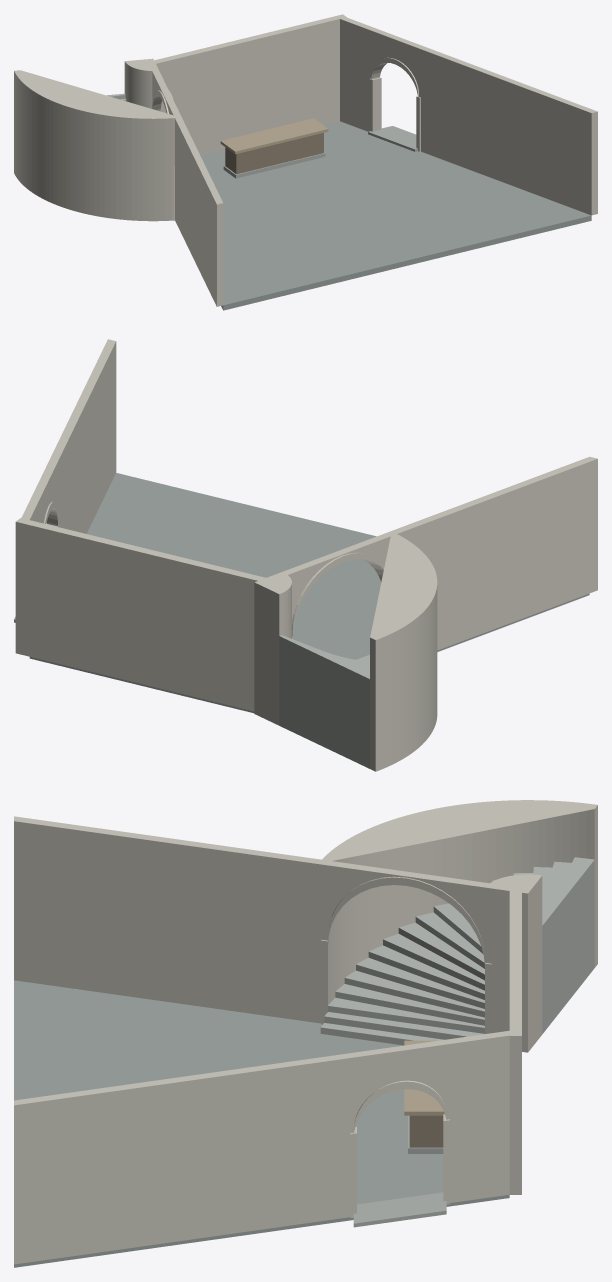
File: Haunted_Fish_Hotel_Lobby_Unity.fbx
3 views of the same model, one above another, from view 1: azimuth 30°, elevation 25°; view 2: azimuth 150°, elevation 25°; view 3: azimuth 270°, elevation 25° (orthographic). The views are drawn at different scales.
Visible parts, largest first — view 1: Wall shell | splayed lobby and curved stairwell, Floor | splayed 16m to 8m, Reception | body, Reception | countertop, Entrance threshold, Reception | plinth; view 2: Wall shell | splayed lobby and curved stairwell, Floor | splayed 16m to 8m, Quarter-turn tread 16; view 3: Wall shell | splayed lobby and curved stairwell, Floor | splayed 16m to 8m, Quarter-turn tread 16, Entrance threshold, Quarter-turn tread 01, Quarter-turn tread 02, Quarter-turn tread 03, Entry tread 02, Quarter-turn tread 04, Quarter-turn tread 05, Quarter-turn tread 06, Quarter-turn tread 07 (+6 smaller).
Boxes of the visible parts, x1=… form: Wall shell | splayed lobby and curved stairwell: x1=14, y1=14, x2=597, y2=306; Floor | splayed 16m to 8m: x1=200, y1=121, x2=591, y2=310; Reception | body: x1=225, y1=133, x2=323, y2=174; Reception | countertop: x1=220, y1=118, x2=328, y2=154; Entrance threshold: x1=368, y1=126, x2=417, y2=151; Reception | plinth: x1=223, y1=152, x2=325, y2=178; Wall shell | splayed lobby and curved stairwell: x1=15, y1=339, x2=597, y2=771; Floor | splayed 16m to 8m: x1=29, y1=473, x2=589, y2=713; Quarter-turn tread 16: x1=279, y1=635, x2=369, y2=768; Wall shell | splayed lobby and curved stairwell: x1=14, y1=800, x2=597, y2=1264; Floor | splayed 16m to 8m: x1=14, y1=980, x2=509, y2=1267; Quarter-turn tread 16: x1=542, y1=857, x2=594, y2=1033; Entrance threshold: x1=353, y1=1192, x2=446, y2=1227; Quarter-turn tread 01: x1=328, y1=997, x2=484, y2=1033; Quarter-turn tread 02: x1=335, y1=984, x2=484, y2=1025; Quarter-turn tread 03: x1=344, y1=970, x2=484, y2=1017; Entry tread 02: x1=324, y1=1012, x2=484, y2=1039; Quarter-turn tread 04: x1=356, y1=957, x2=484, y2=1008; Quarter-turn tread 05: x1=368, y1=945, x2=484, y2=999; Quarter-turn tread 06: x1=383, y1=933, x2=484, y2=990; Quarter-turn tread 07: x1=398, y1=922, x2=484, y2=980.
Bounding box in the file's own units: 17.49 × 4.47 × 14.14.
